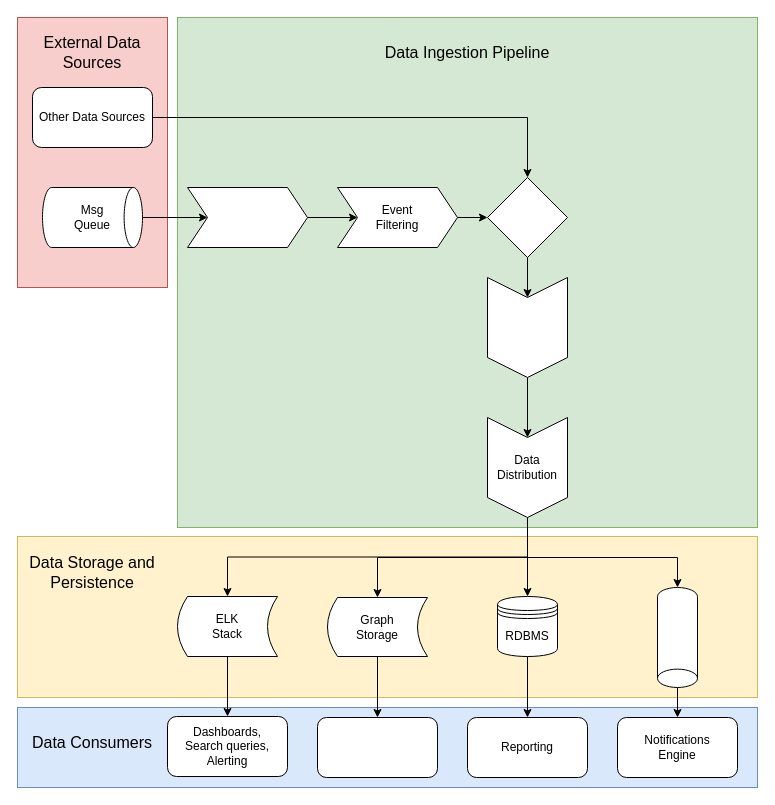
This 775x805 diagram has some shape labels left out. The centre of each missing label's shape, as x and y in pixels:
"Consumer" belongs at point 377,747.
"Data Enricher" belongs at point 527,217.
"Event Consumer" belongs at point 247,217.
"Event Ordering By Event Time" belongs at point 527,327.
"Q U E U E" belongs at point 677,637.
